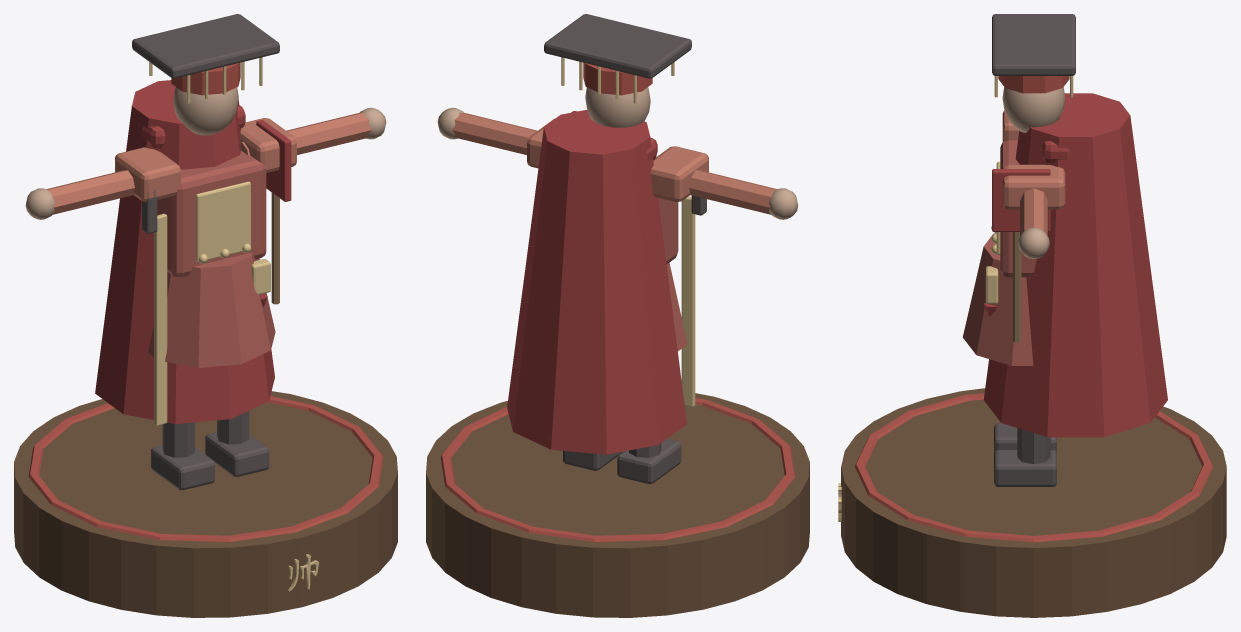
The model's file is general_red.glb.
The picture shows the model from 3 angles, left to right: view 1: azimuth 30°, elevation 25°; view 2: azimuth 150°, elevation 25°; view 3: azimuth 270°, elevation 25°; orthographic projection.
Visible parts, largest first — view 1: base, g_cape, g_skirt, g_cuirass, g_mian_board, base_trim_top, g_plastron, g_sword_blade, g_pauldron_-1, g_head, g_arm_-1, g_arm_1 (+13 smaller); view 2: base, g_cape, g_mian_board, base_trim_top, g_sword_blade, g_pauldron_-1, g_arm_-1, g_arm_1, g_head, g_boot_-0.075, g_mian_cap, g_cuirass (+3 smaller); view 3: base, g_cape, g_mian_board, base_trim_top, g_skirt, g_head, g_pauldron_1, g_boot_0.075, g_flag, g_cuirass, g_arm_1, g_mian_cap (+4 smaller).
Part boxes in pixels (bbox=[...]): base: bbox=[14, 391, 397, 617]; g_cape: bbox=[95, 80, 274, 423]; g_skirt: bbox=[148, 252, 275, 367]; g_cuirass: bbox=[157, 150, 266, 277]; g_mian_board: bbox=[132, 14, 279, 78]; base_trim_top: bbox=[28, 396, 383, 541]; g_plastron: bbox=[196, 181, 250, 262]; g_sword_blade: bbox=[154, 213, 167, 425]; g_pauldron_-1: bbox=[115, 147, 180, 201]; g_head: bbox=[173, 87, 238, 135]; g_arm_-1: bbox=[46, 170, 134, 214]; g_arm_1: bbox=[240, 112, 371, 155]; base: bbox=[426, 393, 809, 617]; g_cape: bbox=[507, 109, 686, 454]; g_mian_board: bbox=[544, 14, 691, 78]; base_trim_top: bbox=[440, 398, 795, 541]; g_sword_blade: bbox=[681, 196, 695, 407]; g_pauldron_-1: bbox=[651, 146, 708, 201]; g_arm_-1: bbox=[689, 170, 777, 214]; g_arm_1: bbox=[452, 112, 537, 154]; g_head: bbox=[585, 87, 650, 127]; g_boot_-0.075: bbox=[617, 438, 681, 483]; g_mian_cap: bbox=[583, 62, 652, 95]; g_cuirass: bbox=[656, 156, 678, 264]; base: bbox=[841, 388, 1226, 617]; g_cape: bbox=[983, 93, 1167, 437]; g_mian_board: bbox=[992, 14, 1075, 75]; base_trim_top: bbox=[854, 393, 1213, 542]; g_skirt: bbox=[962, 233, 1033, 365]; g_head: bbox=[1002, 87, 1065, 132]; g_pauldron_1: bbox=[1002, 164, 1065, 209]; g_boot_0.075: bbox=[994, 450, 1056, 486]; g_flag: bbox=[992, 169, 1050, 231]; g_cuirass: bbox=[1000, 140, 1036, 277]; g_arm_1: bbox=[1020, 188, 1047, 236]; g_mian_cap: bbox=[998, 76, 1069, 93].
Size of the model in its own units: 0.9823 by 1.31 by 0.927.
